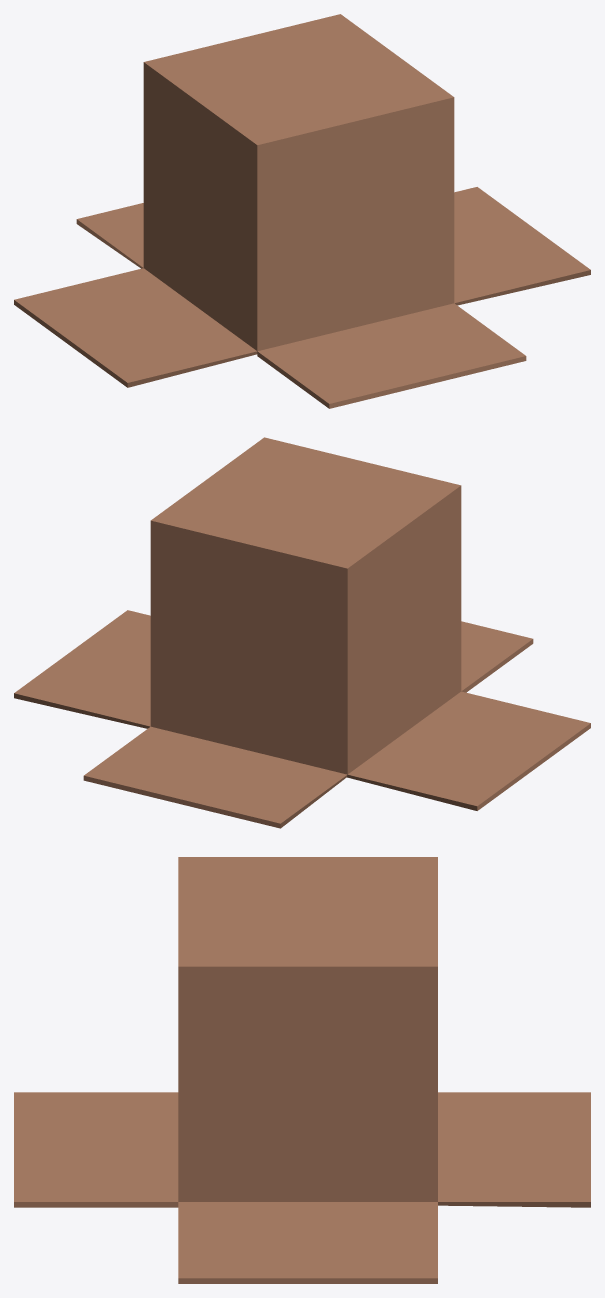
The model's file is cardboard.fbx.
The picture shows the model from 3 angles, top to bottom: view 1: azimuth 30°, elevation 25°; view 2: azimuth 150°, elevation 25°; view 3: azimuth 270°, elevation 25°; orthographic projection. The views are drawn at different scales.
Parts seen in each view (by area): view 1: Cube; view 2: Cube; view 3: Cube.
Boxes of the visible parts, x1,y1,x2,y2 form: Cube: (14,14,590,408); Cube: (14,437,590,828); Cube: (14,857,590,1283).
Size of the model in its own units: 491 by 214 by 463.
